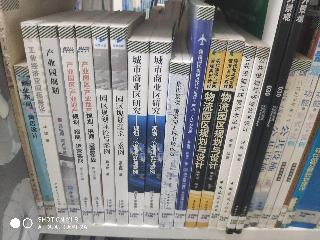book-spine: (233, 0, 310, 234), (223, 0, 298, 233), (253, 40, 320, 229), (247, 59, 310, 227), (0, 2, 46, 225), (168, 5, 214, 228), (214, 45, 269, 230), (243, 60, 300, 229), (193, 39, 243, 228), (22, 22, 68, 223), (207, 44, 255, 229), (181, 38, 227, 227), (262, 81, 320, 229), (40, 25, 82, 224), (16, 65, 57, 225), (60, 27, 92, 224), (139, 42, 169, 224), (77, 25, 104, 224), (158, 63, 189, 228), (92, 26, 115, 223), (127, 43, 147, 224), (111, 28, 127, 224)
